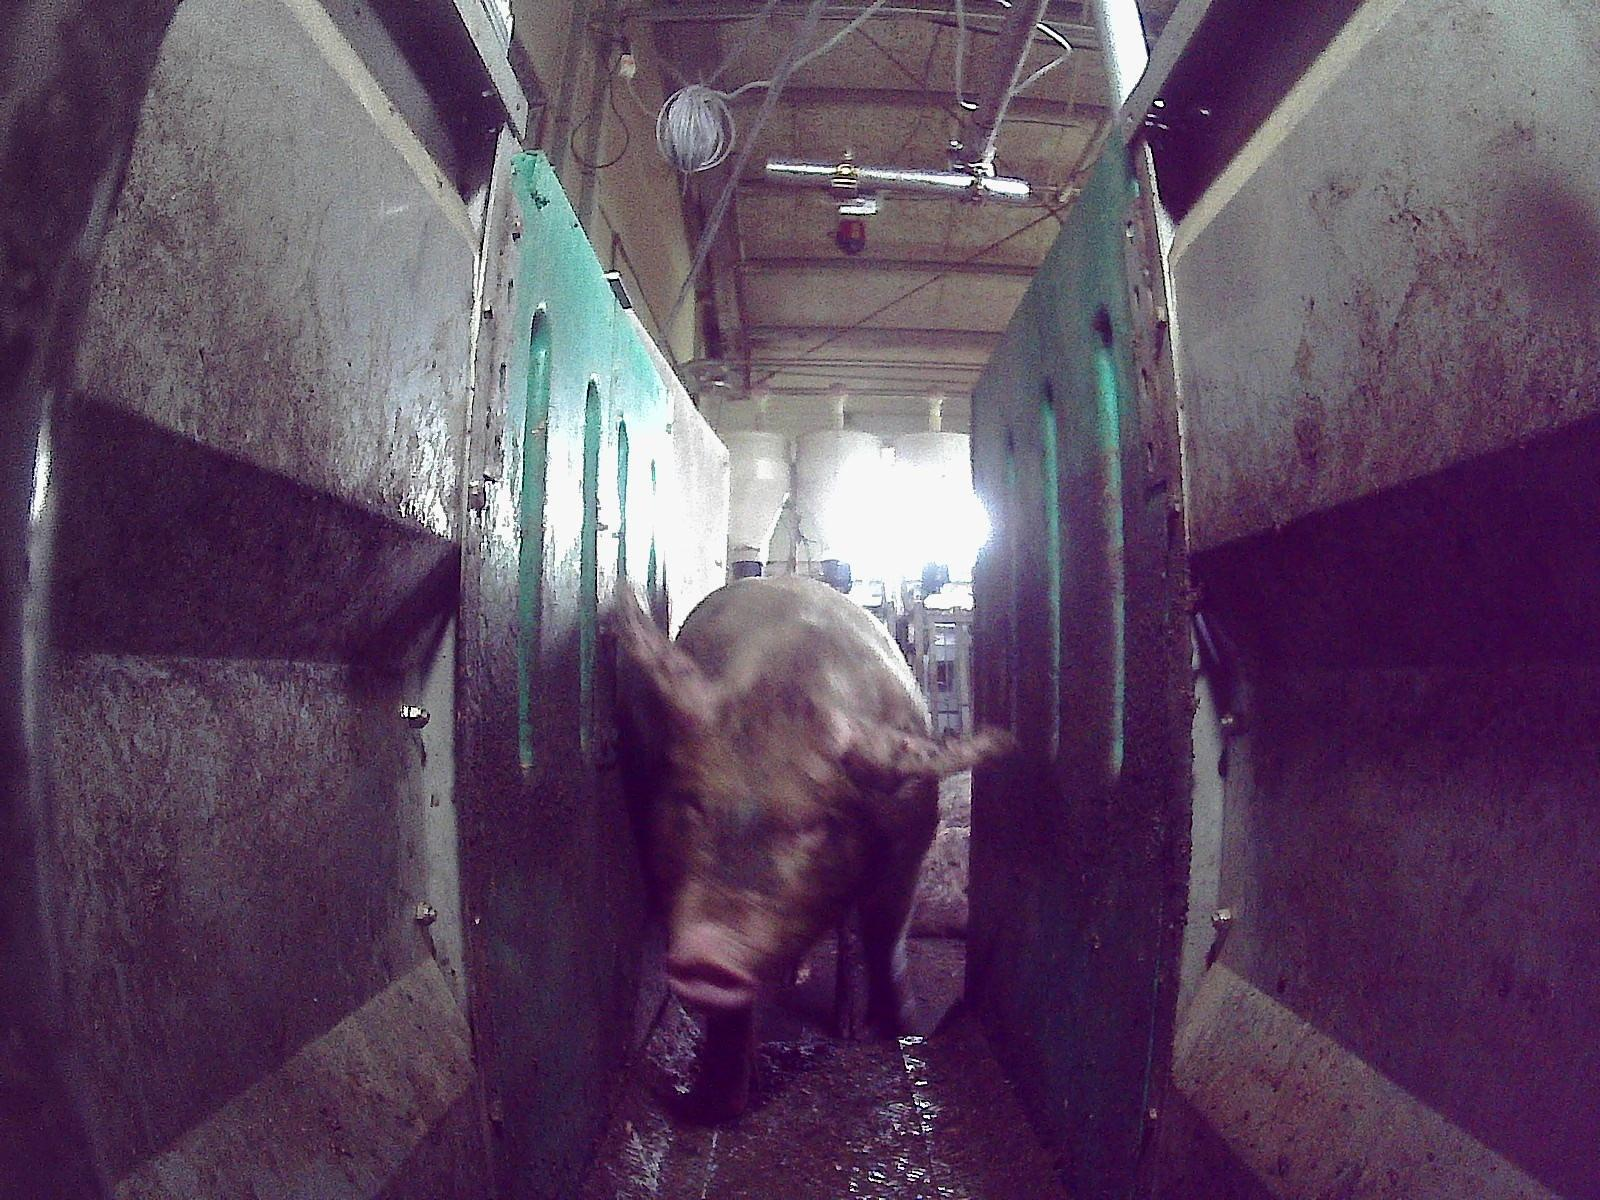Face: (634, 671, 883, 1007)
